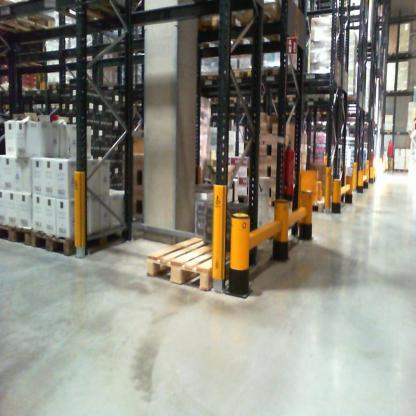pallet: (141, 226, 262, 295), (196, 3, 296, 52), (31, 217, 130, 260), (1, 3, 59, 36), (53, 3, 131, 26), (0, 217, 34, 250), (297, 193, 332, 216), (255, 65, 300, 82), (222, 63, 253, 80), (276, 88, 300, 108), (46, 77, 70, 94), (198, 65, 225, 79), (204, 95, 240, 105), (302, 93, 331, 105)
